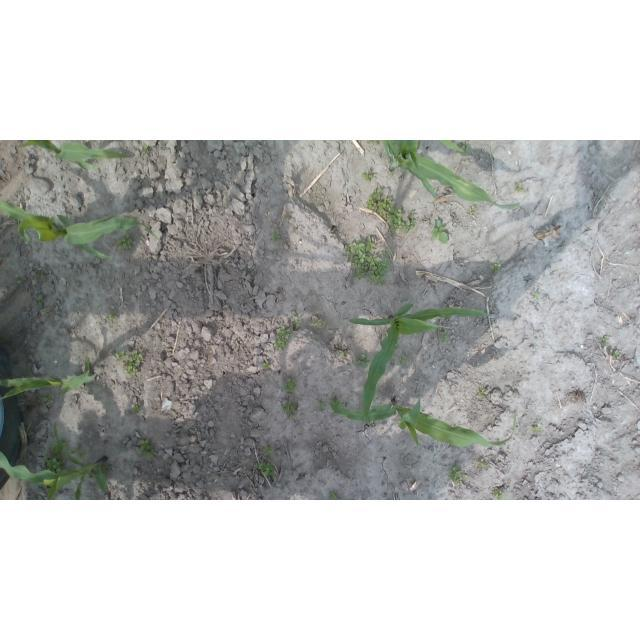Maize: (347, 302, 489, 426), (378, 140, 521, 212), (0, 200, 156, 262), (330, 399, 518, 449), (1, 424, 112, 500), (0, 359, 98, 400), (15, 140, 135, 172)
Weeds: (345, 235, 392, 285), (366, 189, 418, 234), (119, 351, 144, 378), (46, 444, 66, 472), (601, 336, 620, 358), (135, 438, 152, 458), (117, 236, 133, 253), (353, 352, 367, 368), (283, 402, 297, 418), (262, 462, 275, 478), (278, 327, 287, 350), (281, 380, 295, 394), (479, 387, 491, 401), (106, 312, 120, 324), (271, 230, 283, 243), (449, 469, 463, 479), (264, 442, 277, 452), (289, 316, 298, 330), (491, 262, 502, 273), (363, 171, 374, 182), (532, 422, 542, 434), (441, 330, 448, 346), (492, 488, 501, 500), (516, 181, 525, 192), (143, 144, 150, 156), (478, 461, 486, 470), (263, 363, 270, 371)
